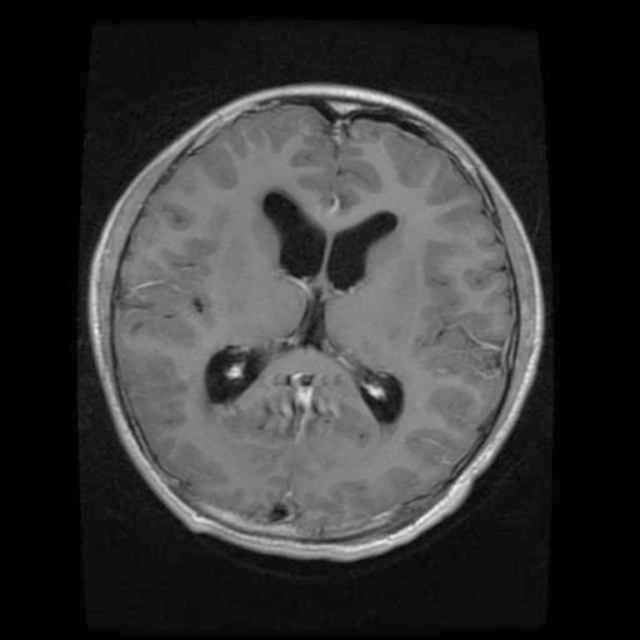pituitary tumor: (264, 371, 342, 434)
